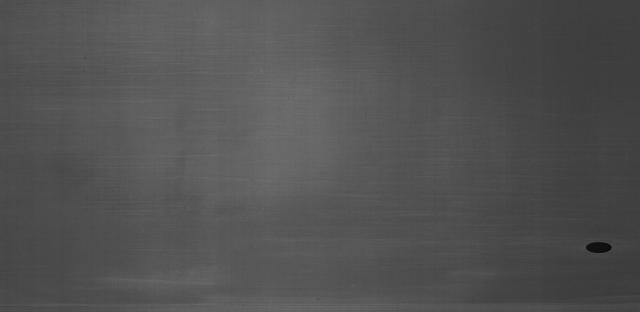punching_hole: (582, 238, 617, 256)
